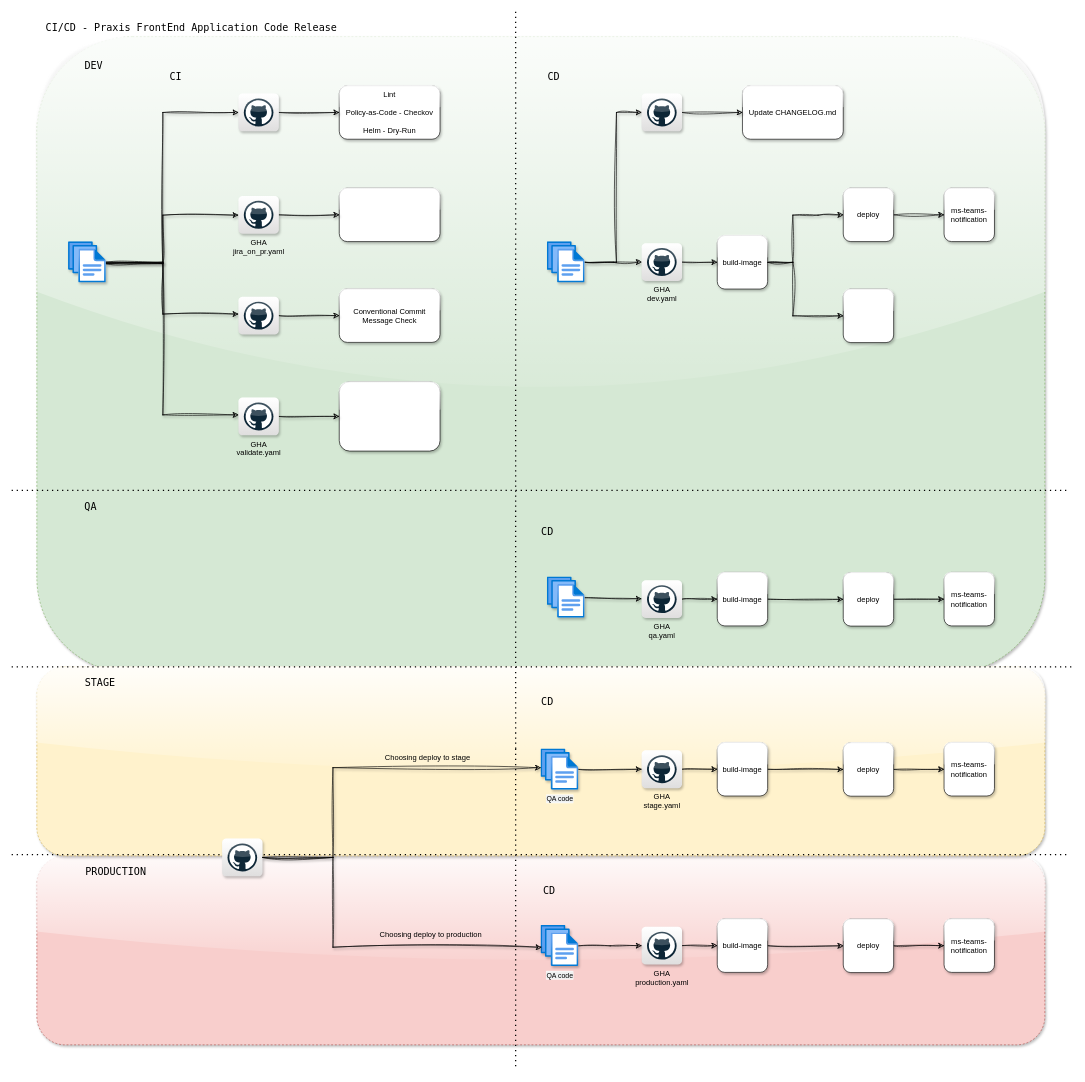
This 1085x1082 diagram has some shape labels left out. The shapes that lost their labels are listed below. From the top down, each one's centre as x and y in pixels, then its label:
At (259,113): "GHA helm_ci.yaml".
At (662,113): "GHA changelog.yaml".
At (390,215): "Jira Ticket on Pull Request".
At (88,263): "Pull Request branch: DEV".
At (566,263): "Merge branch: DEV".
At (259,316): "GHA commit-check.yaml".
At (868,316): "trivy".
At (390,417): "Prettier ESLint Can Build Check Unit Tests".
At (566,598): "Merge DEV to branch: QA".
At (242,858): "GHA deploy-frontend&backend.yaml".
